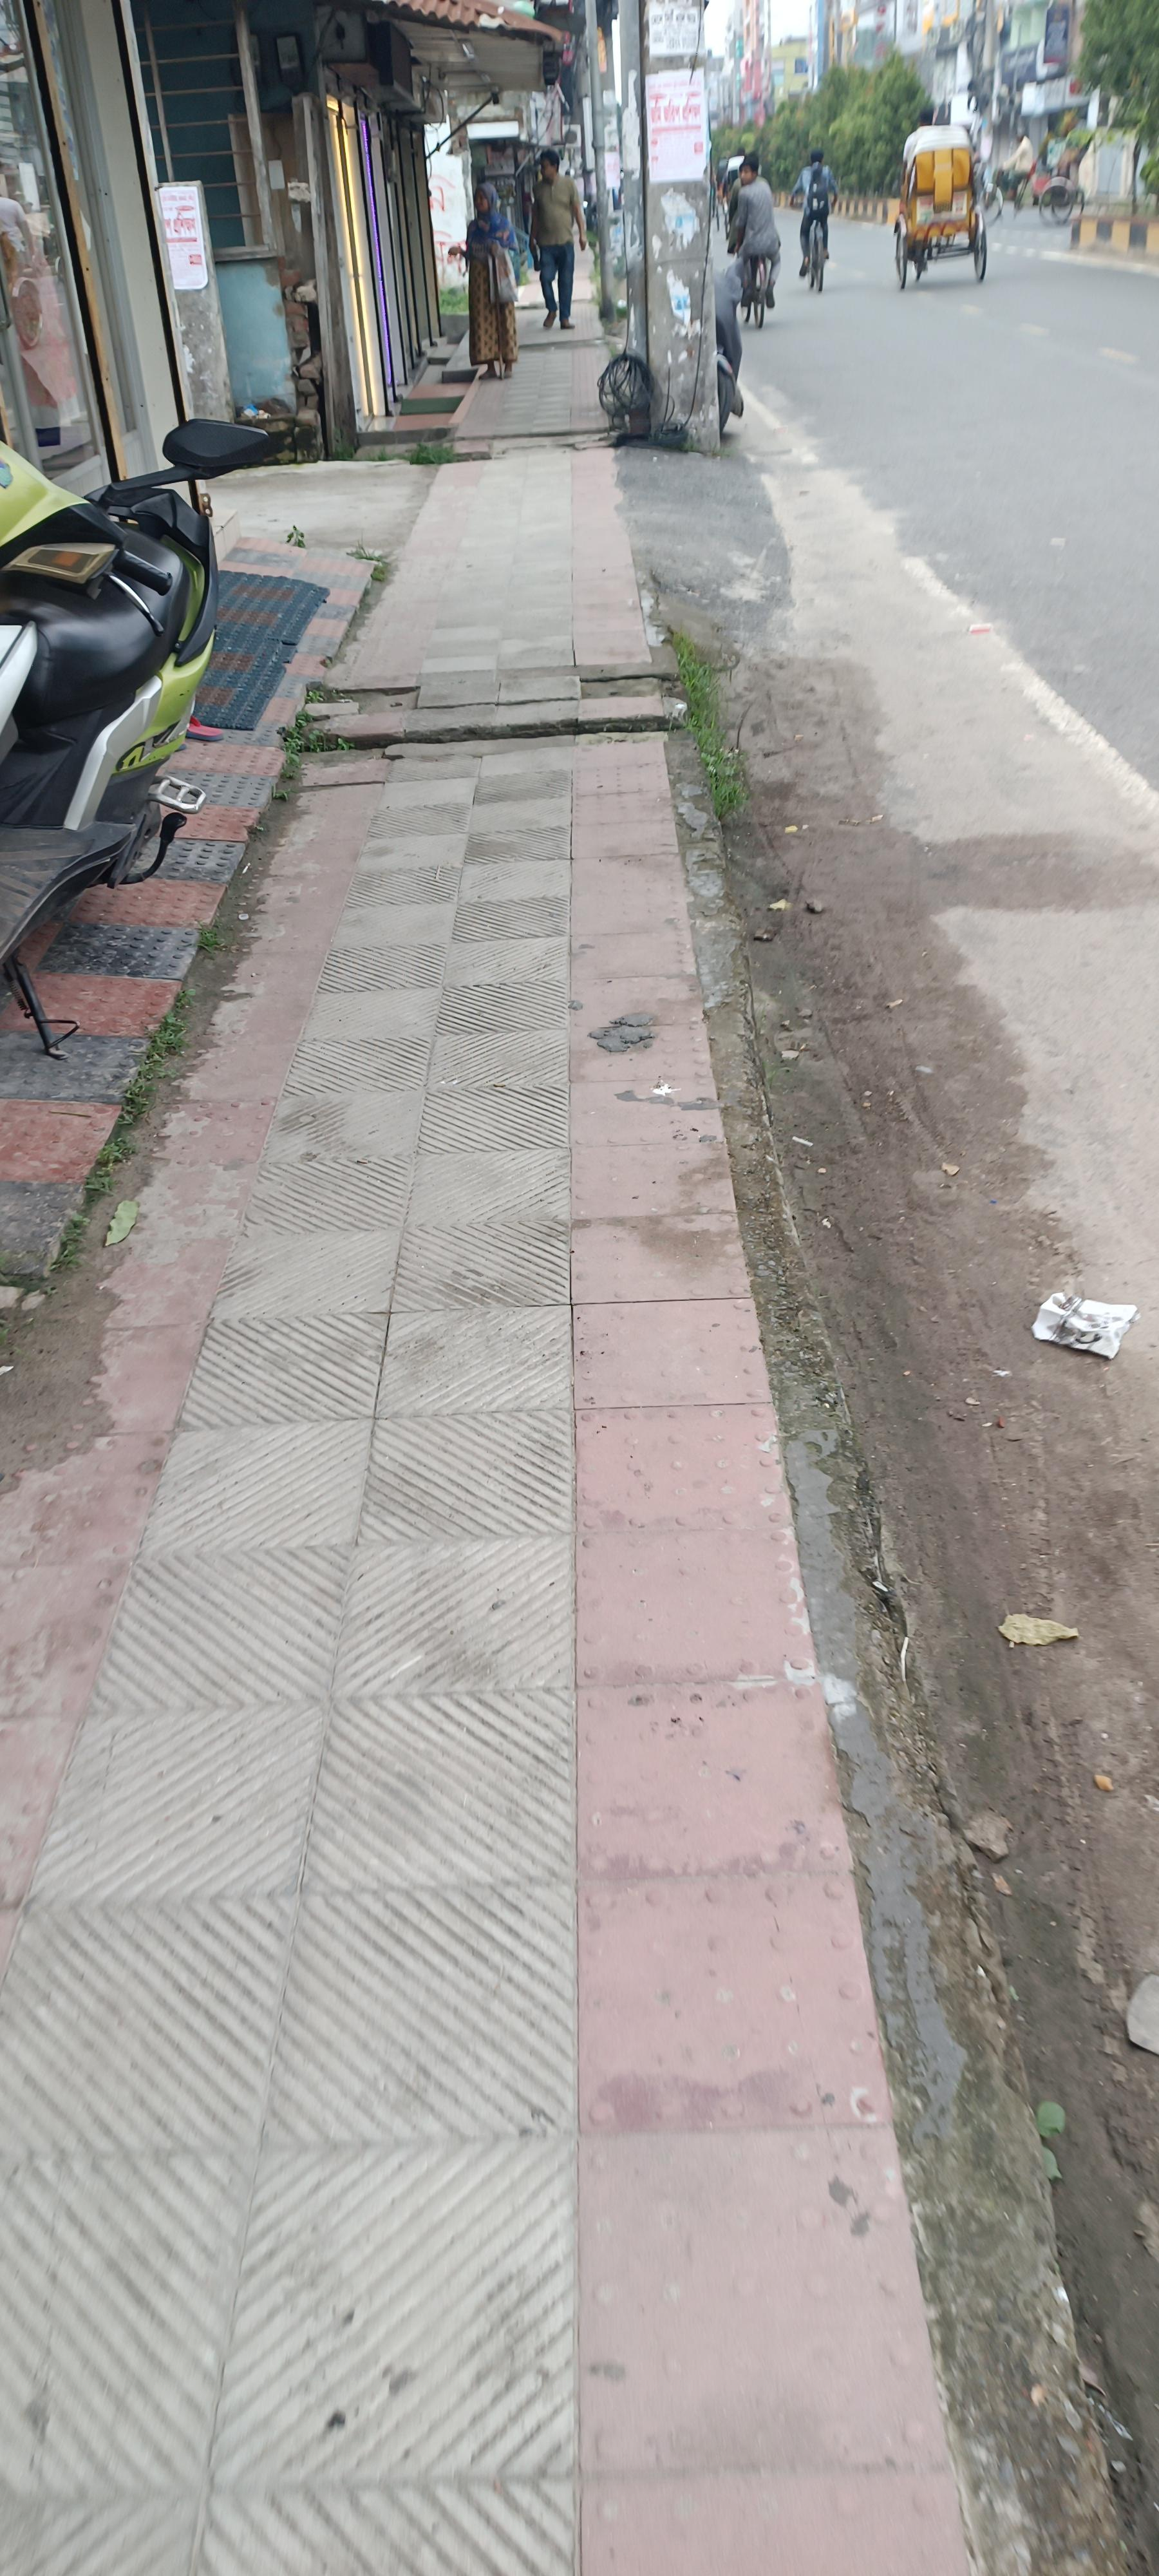Fallen-tree: (2, 417, 276, 1056)
Garbage-bin: (461, 184, 520, 379), (529, 148, 588, 329), (726, 153, 781, 307), (790, 149, 839, 276)
Pothole: (3, 235, 975, 2571)
